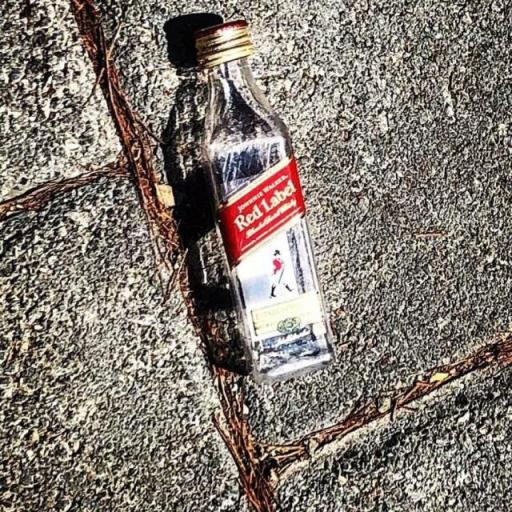glass: (169, 26, 340, 384)
